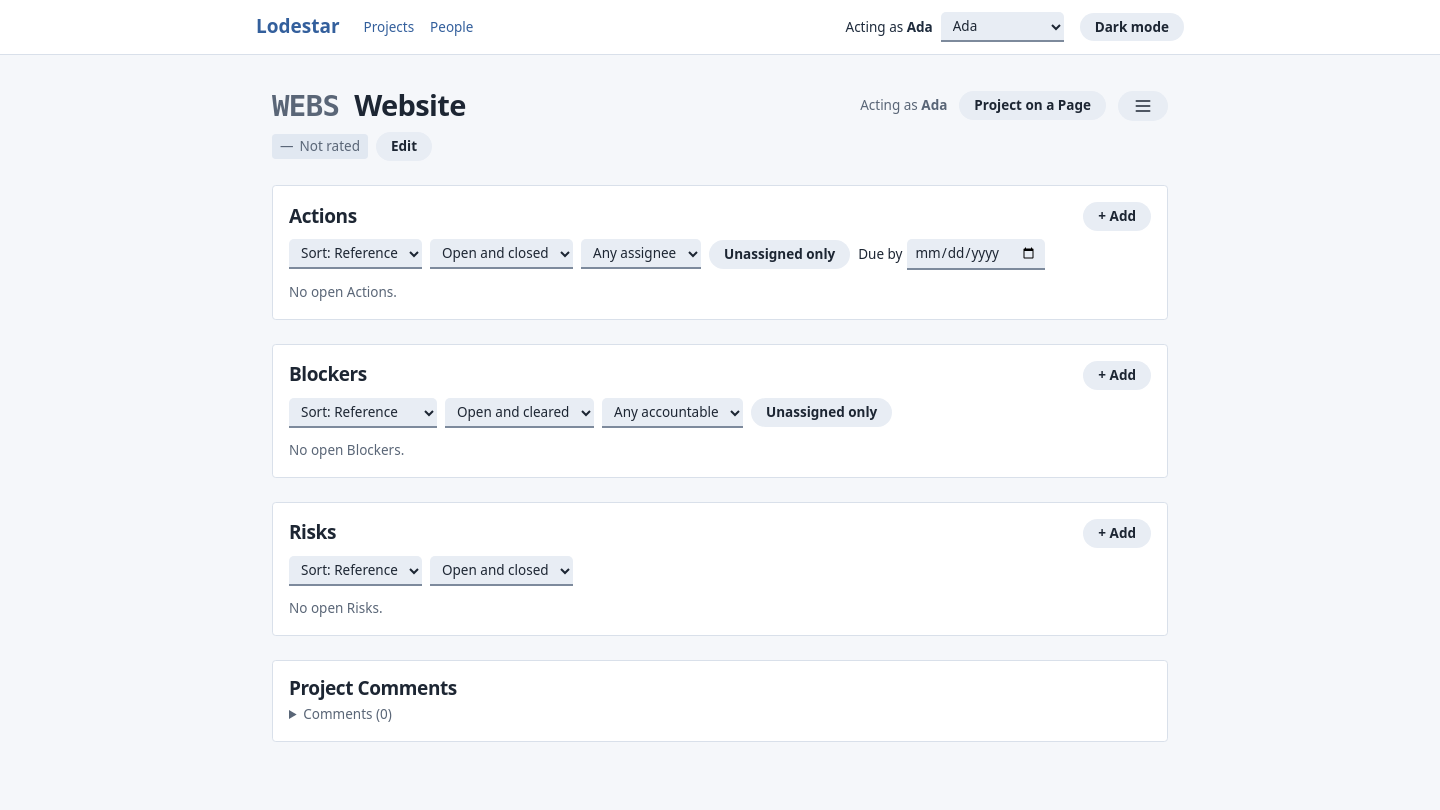
Test: Members in the meeting view › adds a new Person as a Member (#59)
Click the button named "Project menu". click: (1143, 106)
box: left=1118, top=91, right=1168, bottom=121
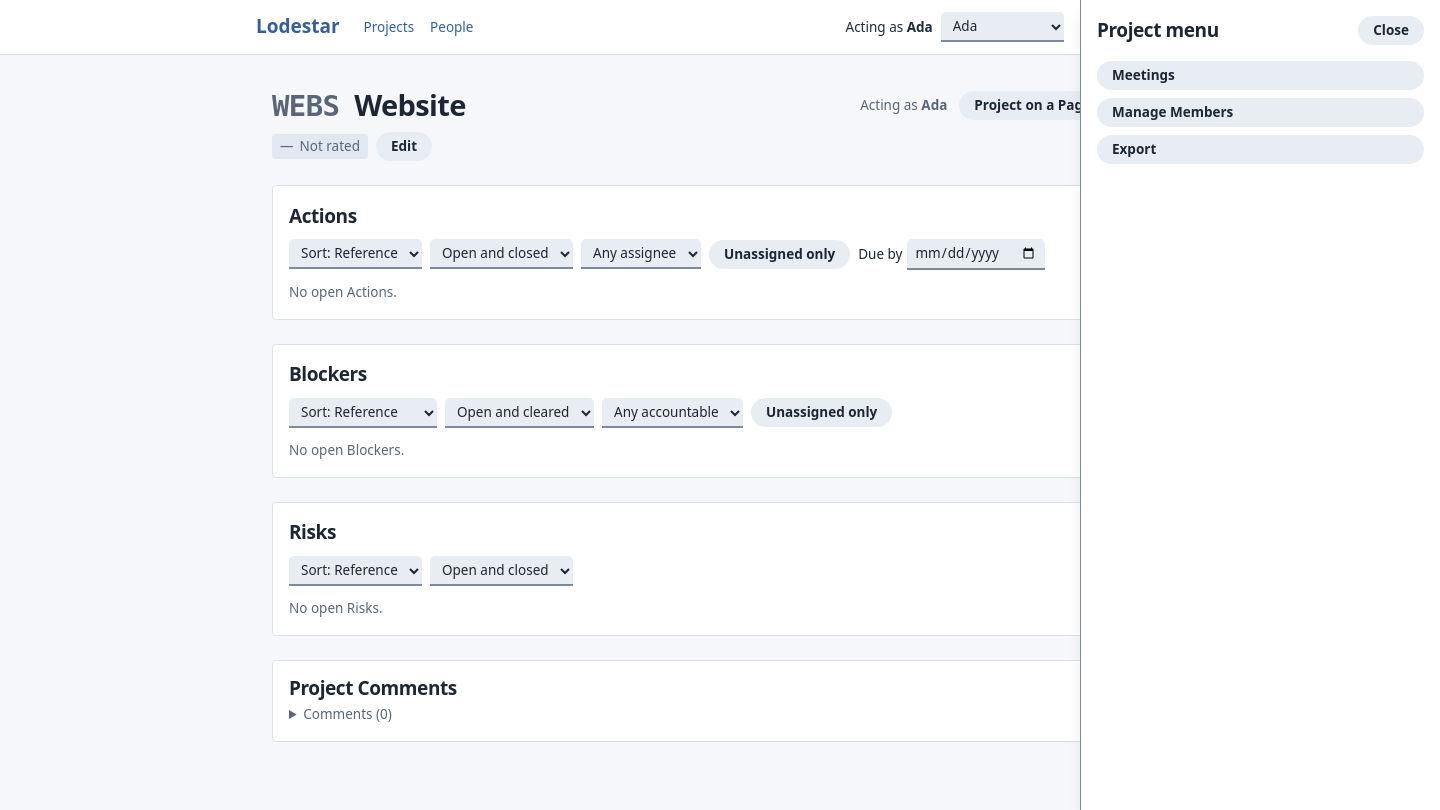
Click the button "Manage Members". click: (1173, 112)
box: left=1097, top=98, right=1424, bottom=127
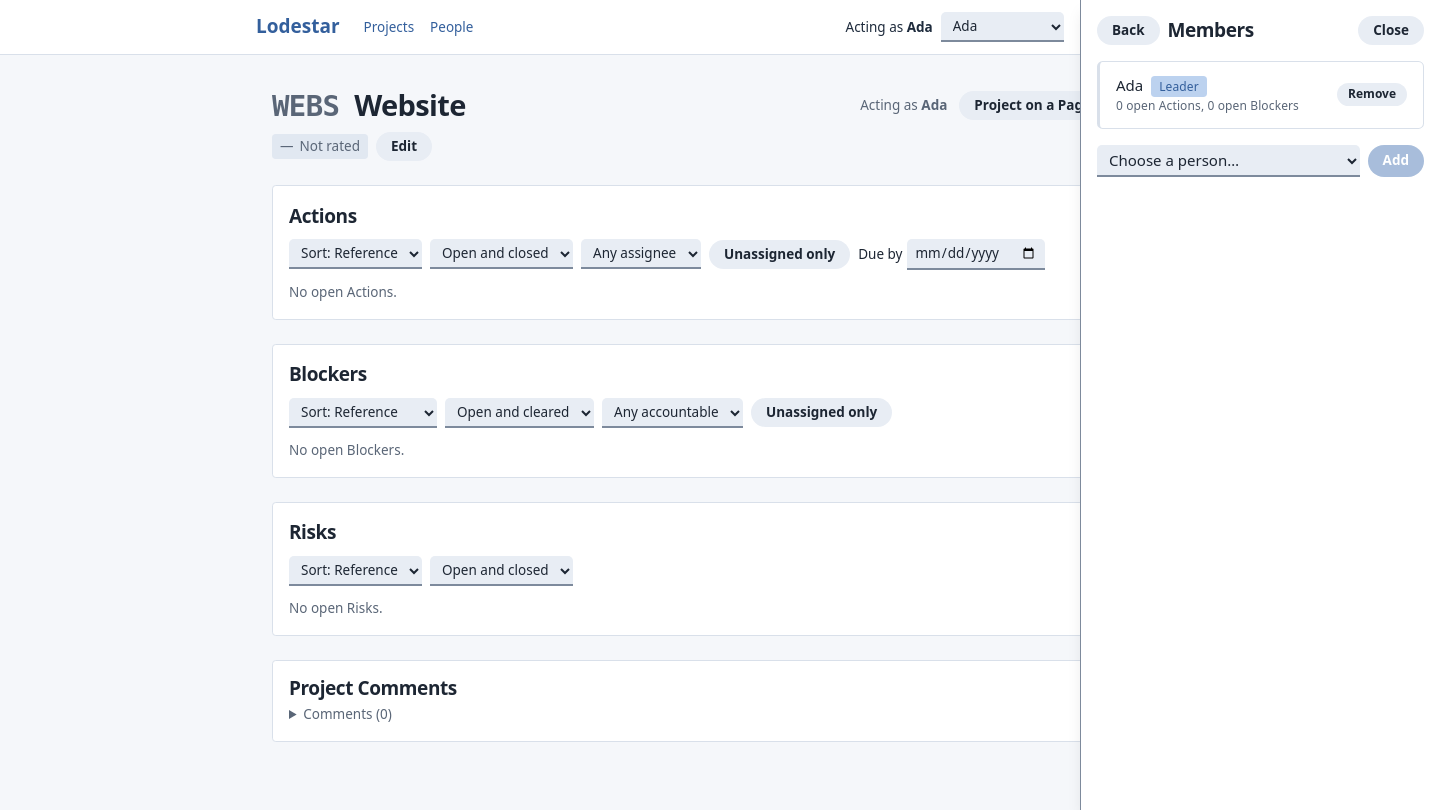
Select "New Person…" in the dropdown named "Add member" below "0 open Actions, 0 open Blockers". click: (1228, 161)
box: left=1097, top=145, right=1360, bottom=177
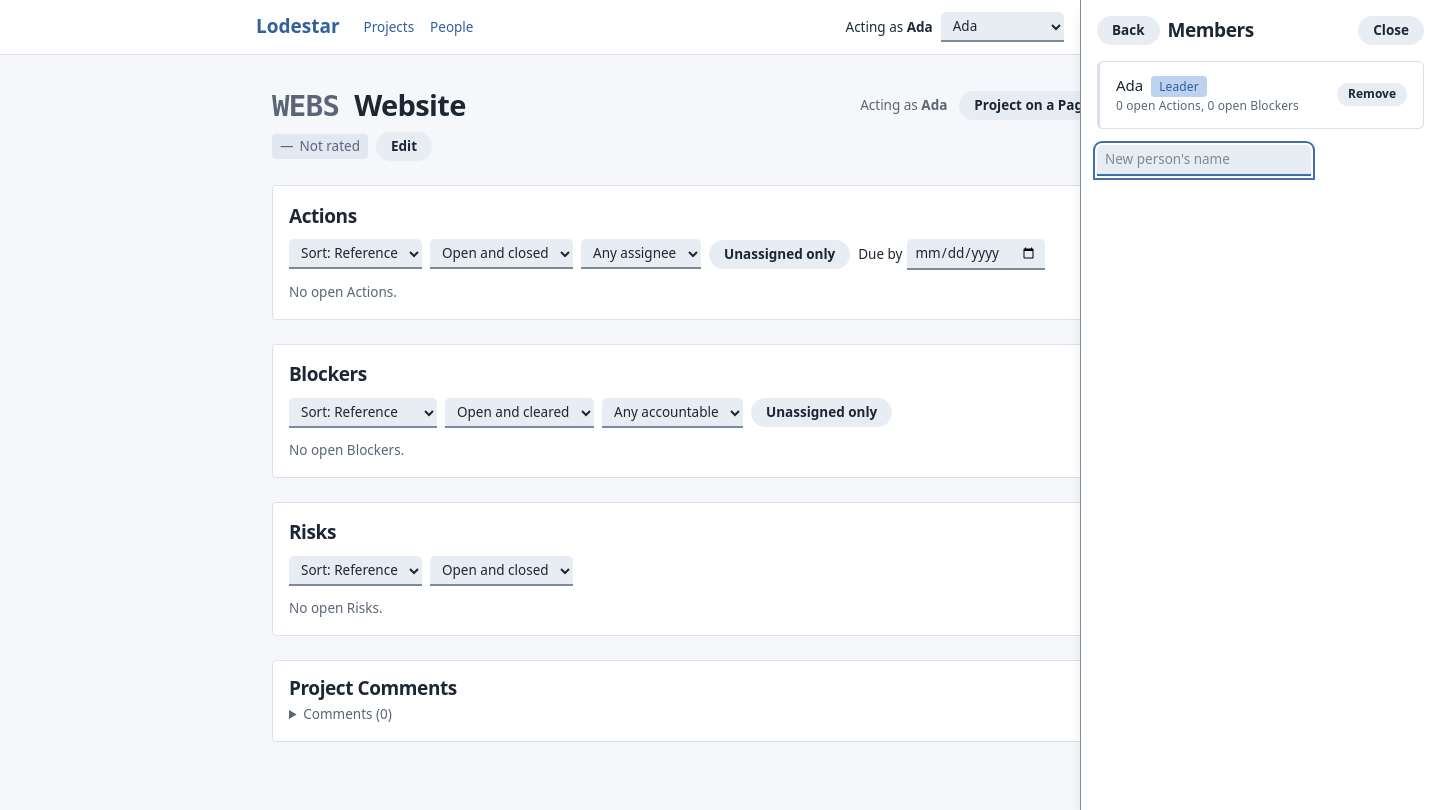
Type "Dave" into the field named "New member". click: (1204, 160)
box: left=1097, top=145, right=1311, bottom=176
Then press Enter
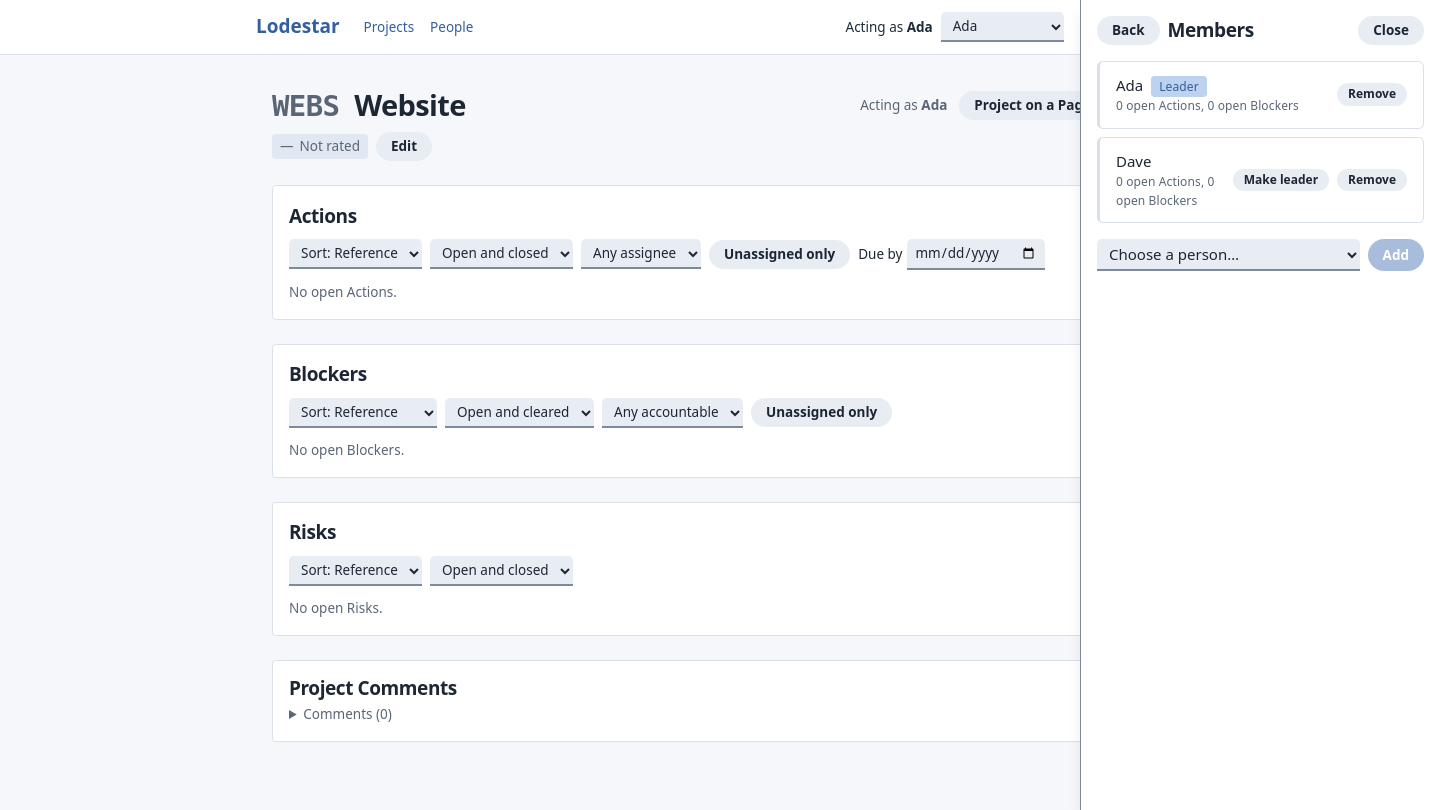
Expected: the number of list items is 2, left=1097, top=61, right=1424, bottom=129; left=1097, top=137, right=1424, bottom=223
